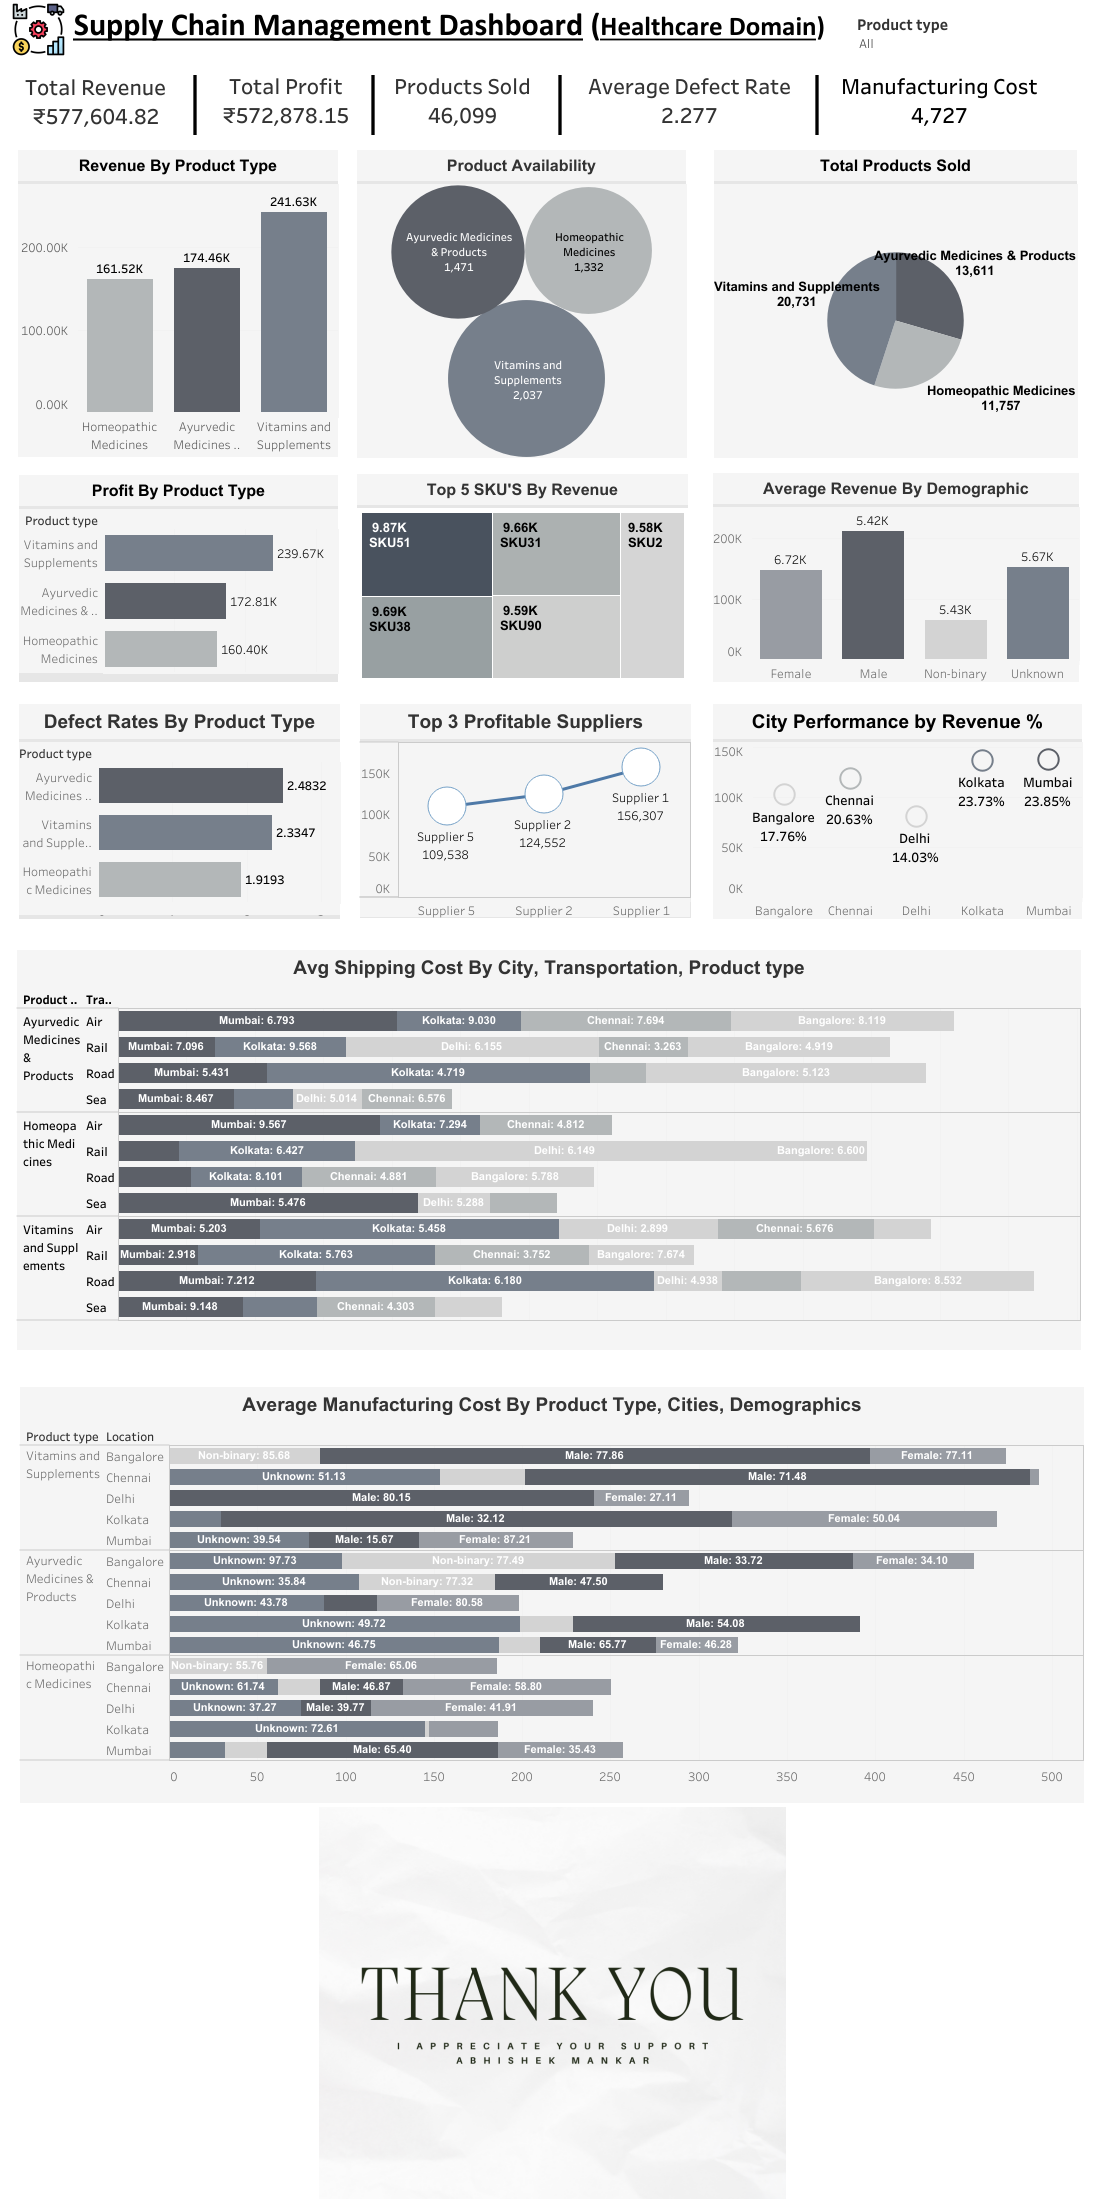

The page's visual inventory and layout, read from the dashboard file:
{"tool":"tableau","page":{"name":"Dashboard 1","canvas":[1100,2200],"ordinal":0},"visuals":[{"type":"image","param":"Image/chain_2211611.png","box":[11,2,55,65]},{"type":"text","box":[68,10,763,34]},{"type":"filter","title":"Product Availability","param":"[federated.07yzva7188s6lh18qd0mp1w4wb1s].[none:Product type:nk]","box":[857,12,197,46]},{"type":"worksheet","title":"Profit","mark":"Automatic","box":[211,66,156,69]},{"type":"worksheet","title":"Products sold","mark":"Automatic","box":[378,66,170,69]},{"type":"worksheet","title":"Defect rate","mark":"Automatic","box":[575,66,233,69]},{"type":"worksheet","title":"manufacturing Cost","mark":"Automatic","box":[825,66,235,68]},{"type":"worksheet","title":"Revenue","mark":"Automatic","box":[11,67,182,69]},{"type":"image","param":"Image/line_649686.png","box":[165,75,60,75]},{"type":"image","param":"Image/line_649686 1.png","box":[343,75,60,75]},{"type":"image","param":"Image/line_649686 2.png","box":[530,75,60,75]},{"type":"image","param":"Image/line_649686 3.png","box":[787,75,60,75]},{"type":"worksheet","title":"Revenue by product type","mark":"Automatic","rows":["Revenue generated"],"cols":["Product type"],"box":[18,150,320,307]},{"type":"worksheet","title":"Product Availability","mark":"Circle","box":[357,150,329,307]},{"type":"worksheet","title":"Total Products Sold","mark":"Pie","box":[714,150,363,307]},{"type":"worksheet","title":"Avg Rev by gender","mark":"Automatic","rows":["Revenue generated"],"cols":["Customer demographics"],"box":[713,473,366,209]},{"type":"worksheet","title":"Top 5 SKUs By Revenue","mark":"Automatic","box":[357,474,331,209]},{"type":"worksheet","title":"Profit by product type","mark":"Automatic","rows":["Product type"],"cols":["Calculation_1281555574662348824"],"box":[19,475,319,207]},{"type":"worksheet","title":"Defect rates","mark":"Automatic","rows":["Product type"],"cols":["Defect rates"],"box":[19,704,321,215]},{"type":"worksheet","title":"Profitable suppliers","mark":"Line","rows":["Calculation_1281555574662348824","Calculation_1281555574662348824"],"cols":["Supplier name"],"box":[360,704,331,214]},{"type":"worksheet","title":"geo rev","mark":"Shape","rows":["Revenue generated"],"cols":["Location"],"box":[713,704,369,215]},{"type":"worksheet","title":"Avg Shiping Cost By Cities","mark":"Automatic","rows":["Product type","Transportation modes"],"cols":["Shipping costs"],"box":[17,950,1064,400]},{"type":"worksheet","title":"Avg Manufacturing cost","mark":"Automatic","rows":["Product type","Location"],"cols":["Manufacturing costs"],"box":[20,1387,1064,416]},{"type":"image","param":"Image/White Minimalist Thank You Facebook Post.png","box":[319,1807,472,392]}]}

Visuals, with their boxes in screenshot pixels (x1, y1, x2, y2), scaled from the page's 1100x2200 canvas onto the 1099x2199 screenshot:
image: (11, 2, 66, 67)
text: (68, 10, 830, 44)
"Product Availability" filter: (856, 12, 1053, 58)
"Profit" worksheet: (211, 66, 367, 135)
"Products sold" worksheet: (378, 66, 548, 135)
"Defect rate" worksheet: (574, 66, 807, 135)
"manufacturing Cost" worksheet: (824, 66, 1059, 134)
"Revenue" worksheet: (11, 67, 193, 136)
image: (165, 75, 225, 150)
image: (343, 75, 403, 150)
image: (530, 75, 589, 150)
image: (786, 75, 846, 150)
"Revenue by product type" worksheet: (18, 150, 338, 457)
"Product Availability" worksheet (Circle marks): (357, 150, 685, 457)
"Total Products Sold" worksheet (Pie marks): (713, 150, 1076, 457)
"Avg Rev by gender" worksheet: (712, 473, 1078, 682)
"Top 5 SKUs By Revenue" worksheet: (357, 474, 687, 683)
"Profit by product type" worksheet: (19, 475, 338, 682)
"Defect rates" worksheet: (19, 704, 340, 919)
"Profitable suppliers" worksheet (Line marks): (360, 704, 690, 918)
"geo rev" worksheet (Shape marks): (712, 704, 1081, 919)
"Avg Shiping Cost By Cities" worksheet: (17, 950, 1080, 1349)
"Avg Manufacturing cost" worksheet: (20, 1386, 1083, 1802)
image: (319, 1806, 790, 2198)
